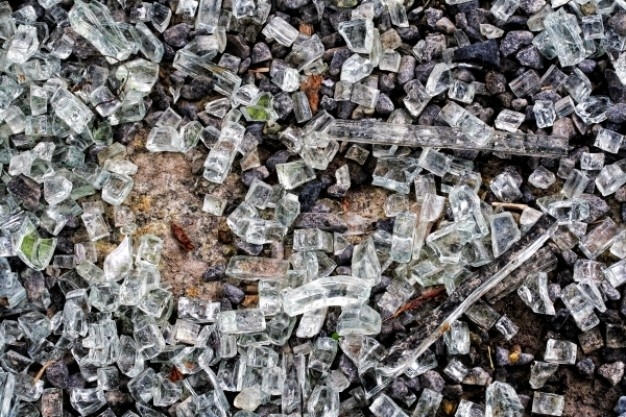glass: (279, 276, 381, 319), (65, 3, 136, 63), (167, 46, 241, 100), (46, 83, 100, 136), (202, 120, 242, 187), (13, 214, 58, 273), (123, 366, 184, 409), (422, 220, 479, 265), (224, 248, 305, 278), (545, 17, 589, 72), (446, 181, 489, 237), (553, 284, 603, 331), (512, 268, 559, 317), (3, 23, 53, 64), (486, 210, 526, 260), (333, 13, 377, 57), (269, 155, 322, 191), (195, 190, 244, 228), (95, 170, 142, 208), (387, 212, 420, 266), (129, 316, 172, 357), (84, 319, 123, 364), (481, 378, 525, 417), (333, 77, 383, 111), (212, 305, 269, 334), (98, 238, 142, 275), (54, 298, 92, 340), (569, 252, 615, 286), (171, 344, 223, 374), (118, 270, 159, 308), (541, 332, 584, 368), (290, 222, 336, 254), (397, 75, 431, 118), (142, 122, 187, 154), (261, 12, 300, 48), (68, 382, 110, 415), (129, 231, 167, 267), (300, 132, 339, 167), (173, 294, 228, 318), (308, 334, 340, 375), (17, 310, 57, 342), (439, 319, 474, 355), (92, 360, 128, 395), (39, 171, 75, 205), (222, 203, 263, 232), (363, 390, 406, 417), (493, 104, 529, 136), (541, 196, 579, 226), (557, 166, 592, 197), (242, 175, 275, 207), (529, 94, 559, 129), (145, 1, 176, 34), (530, 387, 564, 417), (380, 189, 415, 216), (594, 124, 626, 153), (495, 311, 523, 342), (579, 147, 610, 173)
